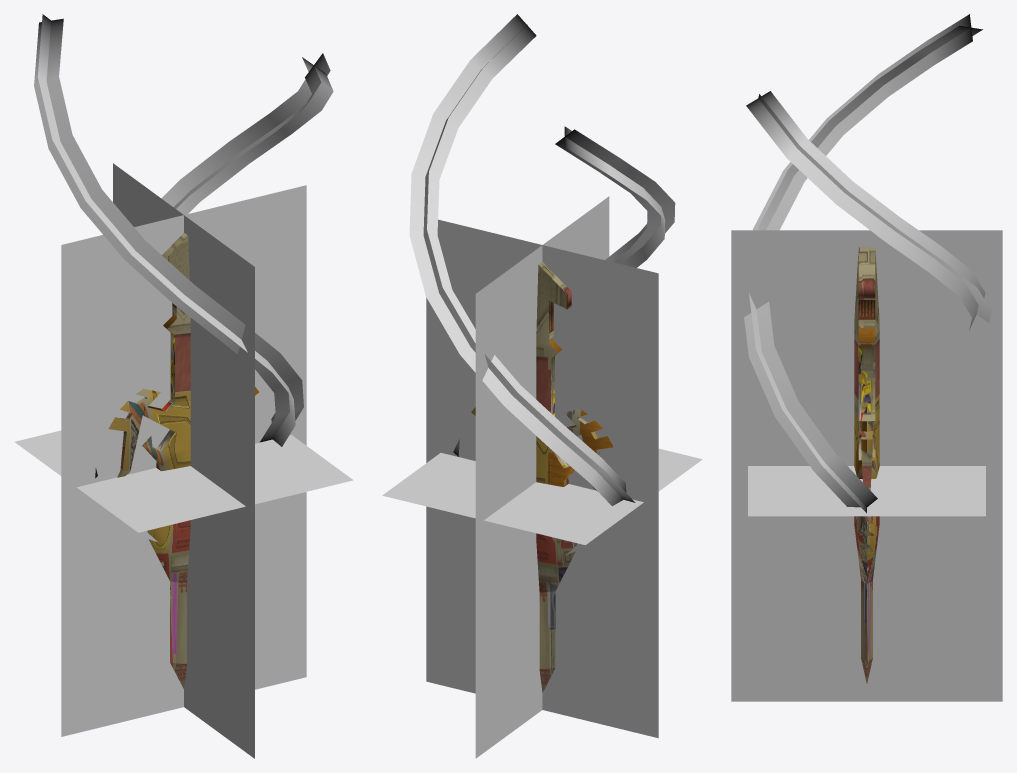
The model's file is wjg.FBX.
3 renders of one model, left to right at view 1: azimuth 30°, elevation 25°; view 2: azimuth 150°, elevation 25°; view 3: azimuth 270°, elevation 25°, orthographic. The views are drawn at different scales.
Visible parts, largest first — view 1: Plane03, Plane02, Plane01, Object01; view 2: Plane03, Plane02, Plane01, Object01; view 3: Plane03, Plane02, Plane01, Object01.
Part boxes in pixels (x1,y1,x2,y2): Plane03: [61, 163, 306, 758]; Plane02: [34, 14, 333, 478]; Plane01: [14, 430, 353, 532]; Object01: [108, 233, 259, 688]; Plane03: [426, 196, 658, 758]; Plane02: [409, 14, 675, 506]; Plane01: [382, 448, 702, 545]; Object01: [471, 262, 613, 692]; Plane03: [731, 230, 1002, 701]; Plane02: [744, 14, 991, 513]; Plane01: [748, 466, 985, 516]; Object01: [854, 247, 879, 683].
Size of the model in its own units: 11.65 by 11.4 by 29.97.
